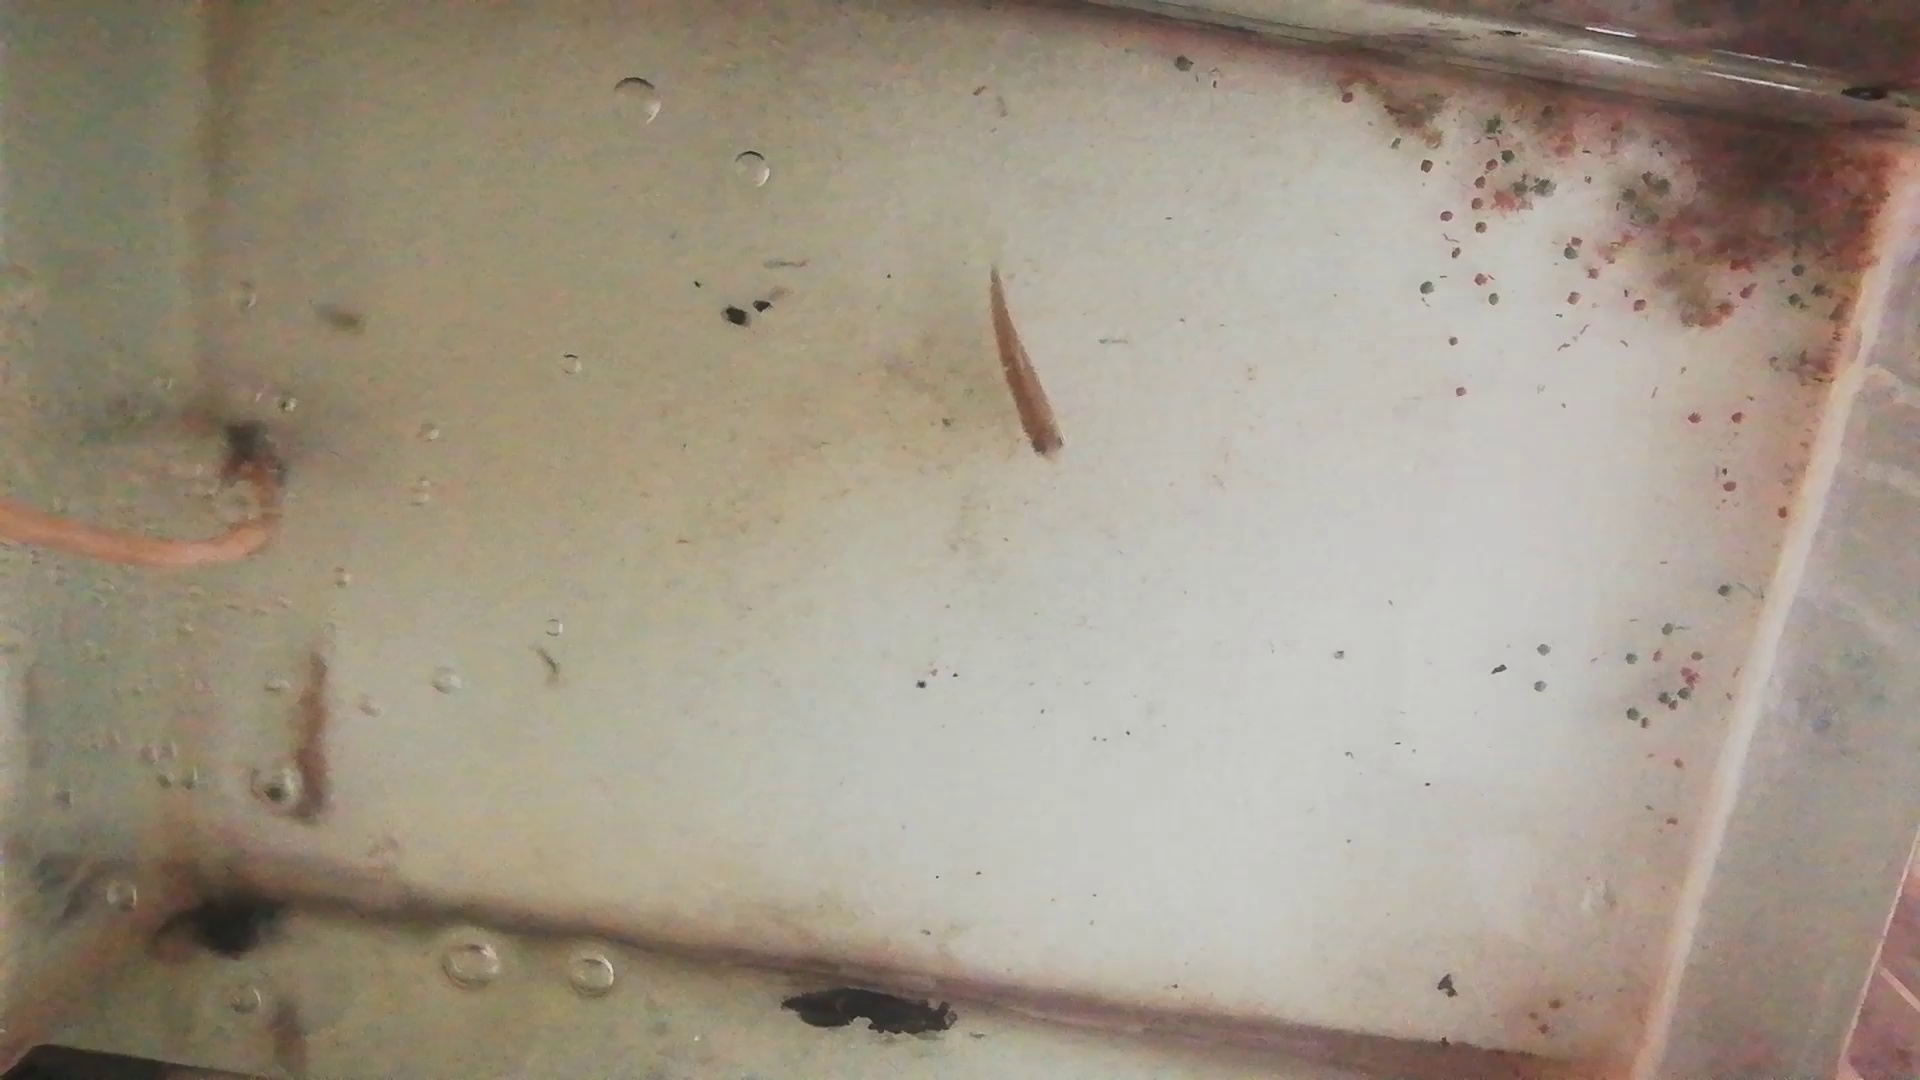fish: (985, 266, 1073, 458), (281, 640, 338, 827)
